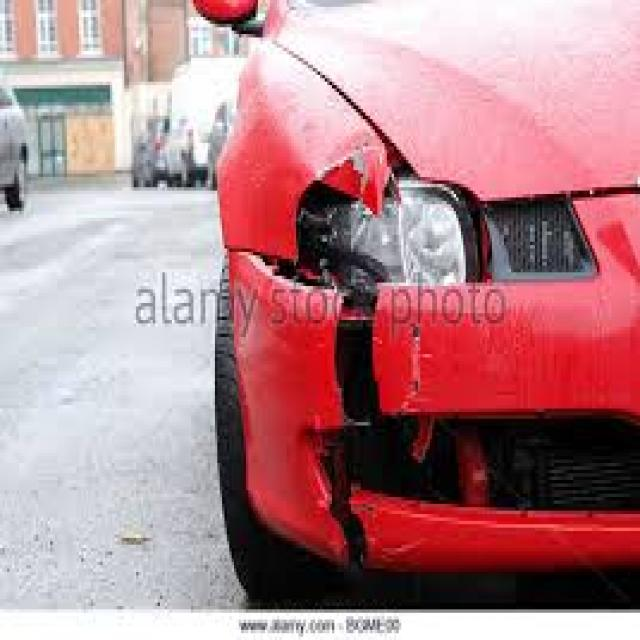moderate: (227, 91, 499, 536)
